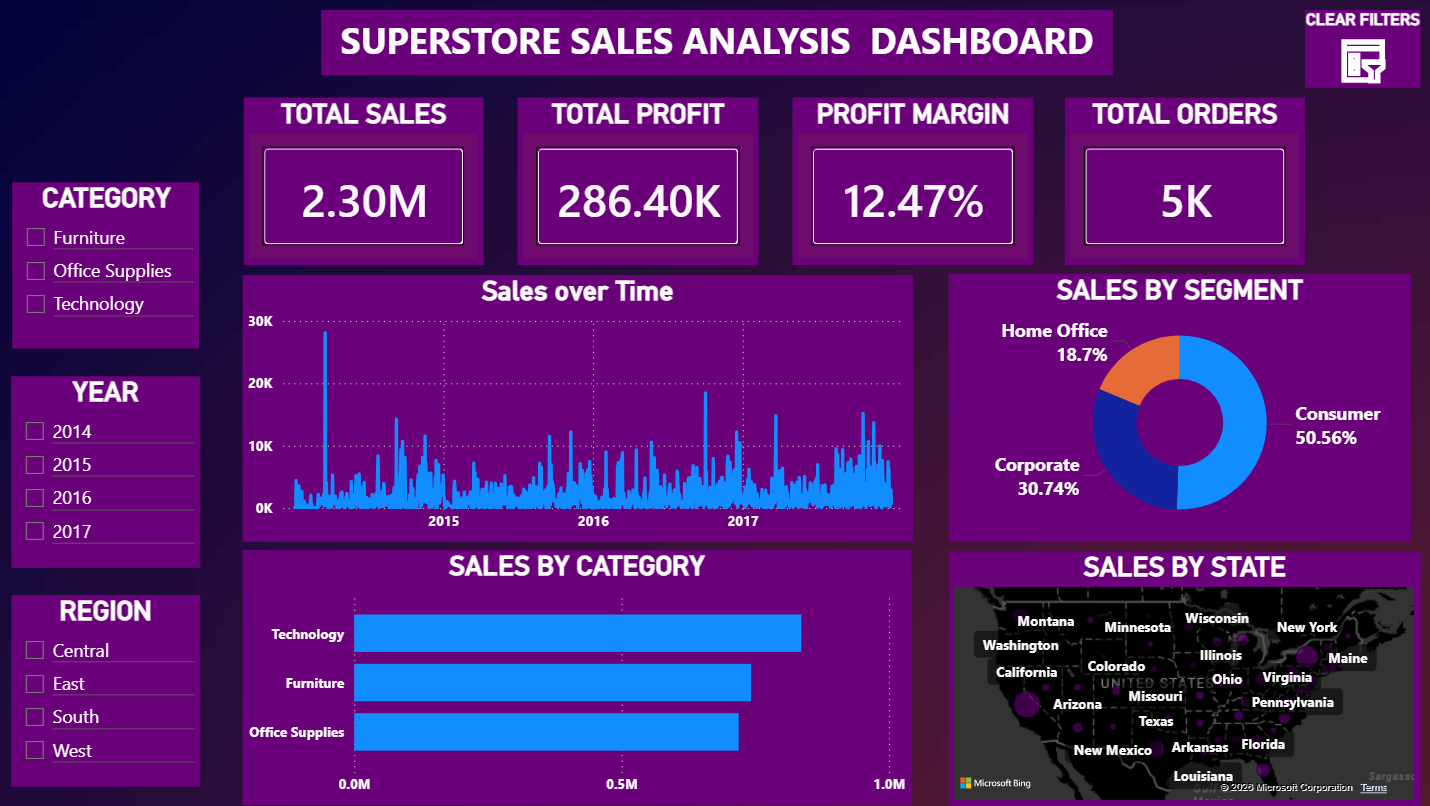

This screenshot's page, from the dashboard's own definition file:
{"tool":"powerbi","page":{"name":"Page 1","canvas":[1280,720],"ordinal":0},"visuals":[{"type":"cardVisual","title":"TOTAL SALES","fields":{"Data":["Sum(superstore_clean.sales)"]},"box":[217.7,87.1,214.4,149.6],"z":0},{"type":"cardVisual","title":"TOTAL PROFIT","fields":{"Data":["Sum(superstore_clean.profit)"]},"box":[462.3,87.1,215.5,149.6],"z":1000},{"type":"cardVisual","title":"TOTAL ORDERS","fields":{"Data":["superstore_clean.TOTAL_ORDERS"]},"box":[951.4,87.1,214.4,149.6],"z":2000},{"type":"cardVisual","title":"PROFIT MARGIN","fields":{"Data":["superstore_clean.PROFIT MARGIN"]},"box":[707.9,87.1,215.5,149.6],"z":3000},{"type":"lineChart","title":"Sales over Time","fields":{"Y":["Sum(superstore_clean.sales)"],"Category":["superstore_clean.order_date"]},"box":[216.3,245.3,598.8,238.4],"z":4000},{"type":"clusteredBarChart","title":"SALES BY CATEGORY","fields":{"Y":["Sum(superstore_clean.sales)"],"Category":["superstore_clean.category"]},"box":[216.3,491.9,597.7,227.9],"z":5000},{"type":"donutChart","title":"SALES BY SEGMENT","fields":{"Y":["Sum(superstore_clean.sales)"],"Category":["superstore_clean.segment"]},"box":[847.7,245,413.1,238.9],"z":6000},{"type":"map","title":"SALES BY STATE","fields":{"Size":["Sum(superstore_clean.sales)"],"Category":["superstore_clean.state"]},"box":[847.7,492.3,421.5,226.9],"z":7000},{"type":"textbox","box":[286.6,8.9,706.8,58.1],"z":8000},{"type":"slicer","title":"CATEGORY","fields":{"Values":["superstore_clean.category"]},"box":[10.5,161.6,168.6,150],"z":9000},{"type":"slicer","title":"REGION","fields":{"Values":["superstore_clean.region"]},"box":[10.5,531.4,168.6,170.9],"z":10000},{"type":"slicer","title":"YEAR","fields":{"Values":["superstore_clean.year"]},"box":[10.5,336,168.6,170.9],"z":11000},{"type":"actionButton","title":"CLEAR FILTERS","box":[1166.3,9.3,103.5,69.8],"z":12000}]}

Visuals, with their boxes in screenshot pixels (x1, y1, x2, y2), scaled from the page's 1280x720 canvas onto the 1430x806 screenshot:
"TOTAL SALES" cardVisual: box(243, 98, 483, 265)
"TOTAL PROFIT" cardVisual: box(516, 98, 757, 265)
"TOTAL ORDERS" cardVisual: box(1063, 98, 1302, 265)
"PROFIT MARGIN" cardVisual: box(791, 98, 1032, 265)
"Sales over Time" lineChart: box(242, 275, 911, 541)
"SALES BY CATEGORY" clusteredBarChart: box(242, 551, 909, 805)
"SALES BY SEGMENT" donutChart: box(947, 274, 1409, 542)
"SALES BY STATE" map: box(947, 551, 1418, 805)
textbox: box(320, 10, 1110, 75)
"CATEGORY" slicer: box(12, 181, 200, 349)
"REGION" slicer: box(12, 595, 200, 786)
"YEAR" slicer: box(12, 376, 200, 567)
"CLEAR FILTERS" actionButton: box(1303, 10, 1419, 89)
